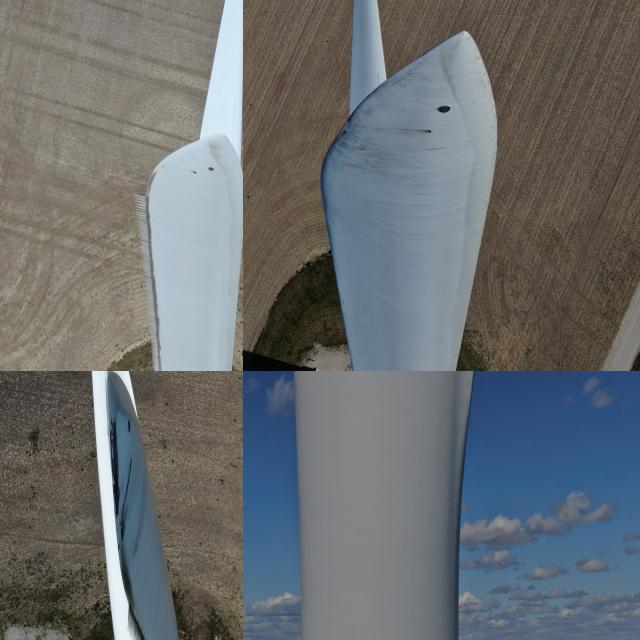damage: (94, 422, 130, 524), (113, 548, 140, 608), (424, 126, 434, 140), (239, 171, 242, 192), (192, 168, 196, 176)
